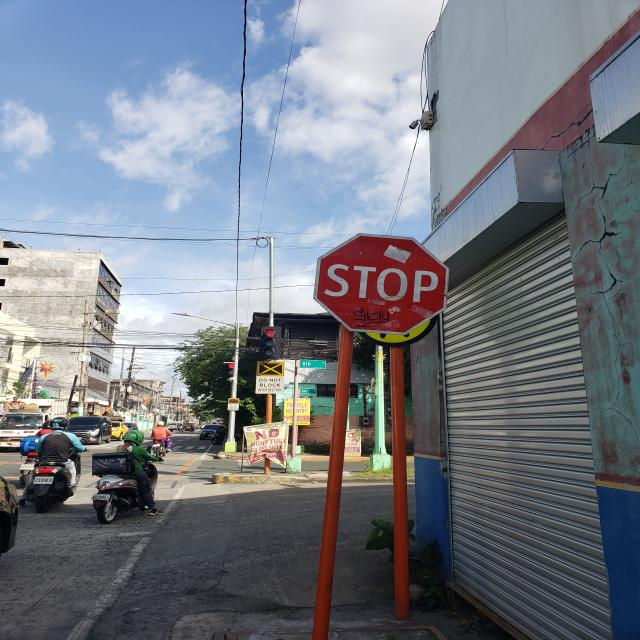stop-sign: (313, 233, 450, 335)
